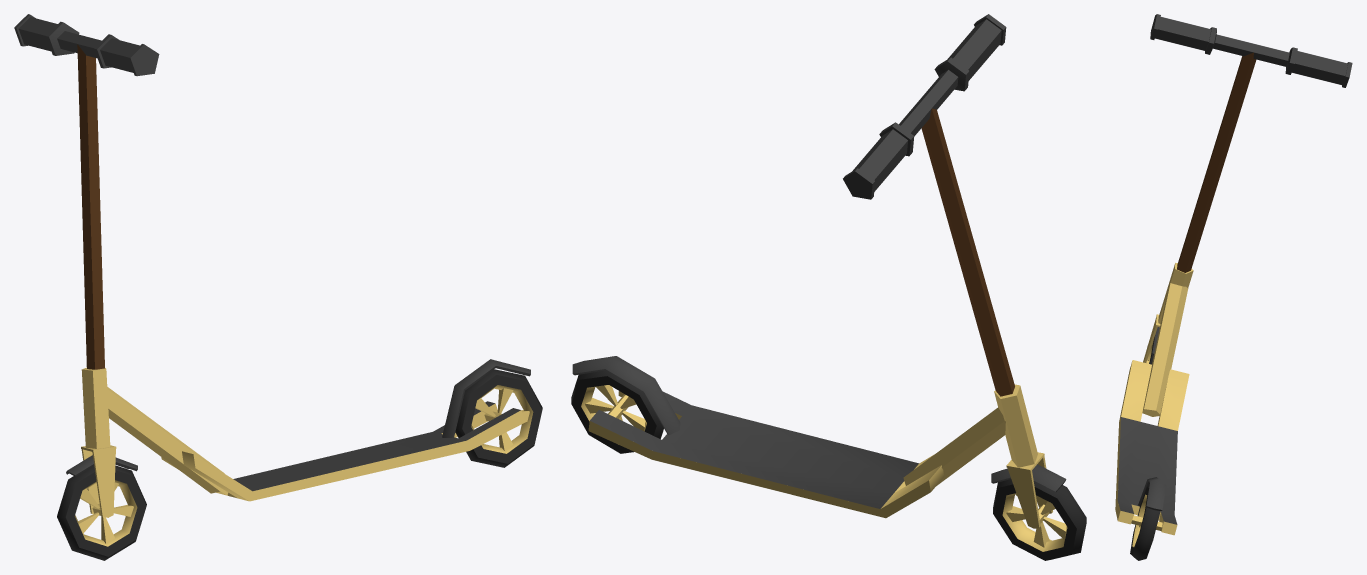
3 renders of one model, left to right at view 1: azimuth 30°, elevation 25°; view 2: azimuth 150°, elevation 25°; view 3: azimuth 270°, elevation 25°, orthographic. The views are drawn at different scales.
Visible parts, largest first — view 1: toy_009; view 2: toy_009; view 3: toy_009.
Part boxes in pixels (x1,y1,x2,y2): toy_009: (14, 14, 542, 560); toy_009: (571, 14, 1086, 560); toy_009: (1115, 14, 1352, 560).
Bounding box in the file's own units: 0.8482 × 0.8413 × 0.4445.
